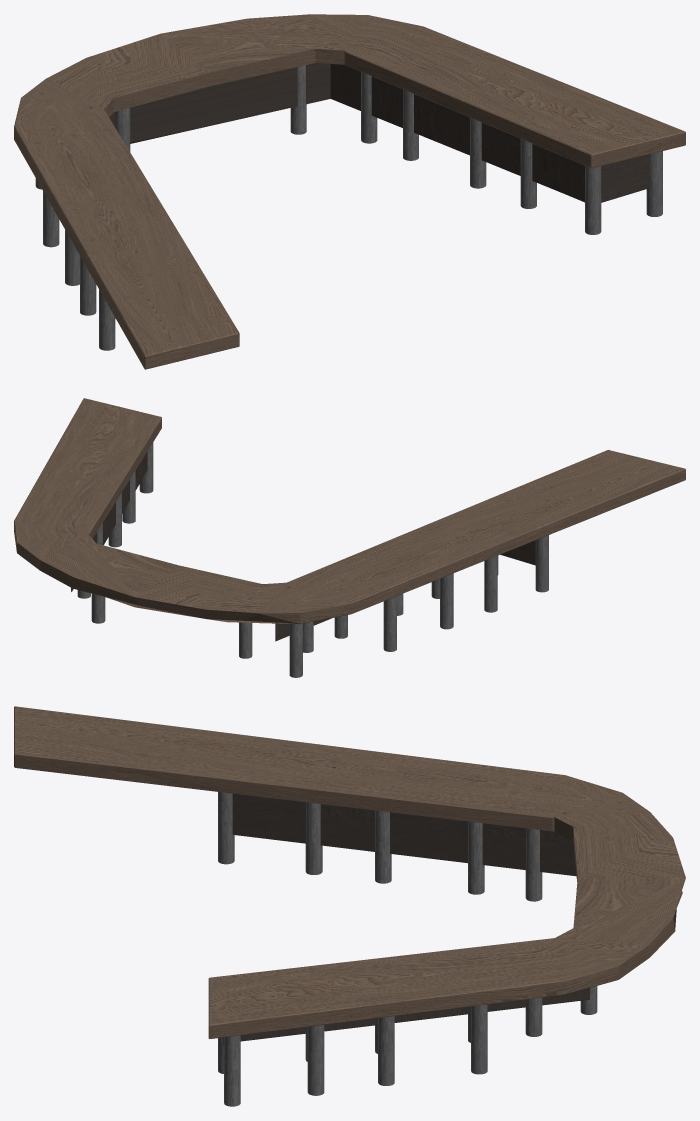
File: SM_confrenceTable.glb
The picture shows the model from 3 angles, top to bottom: view 1: azimuth 30°, elevation 25°; view 2: azimuth 150°, elevation 25°; view 3: azimuth 270°, elevation 25°; orthographic projection. The views are drawn at different scales.
Visible parts, largest first — view 1: Cylinder.002; view 2: Cylinder.002; view 3: Cylinder.002.
Part boxes in pixels (x1,y1,x2,y2): Cylinder.002: (14,14,685,369); Cylinder.002: (14,398,685,677); Cylinder.002: (14,706,685,1106).
Size of the model in its own units: 0.5025 by 0.0647 by 0.4472.
Materials: 1 (1 with a texture image).
